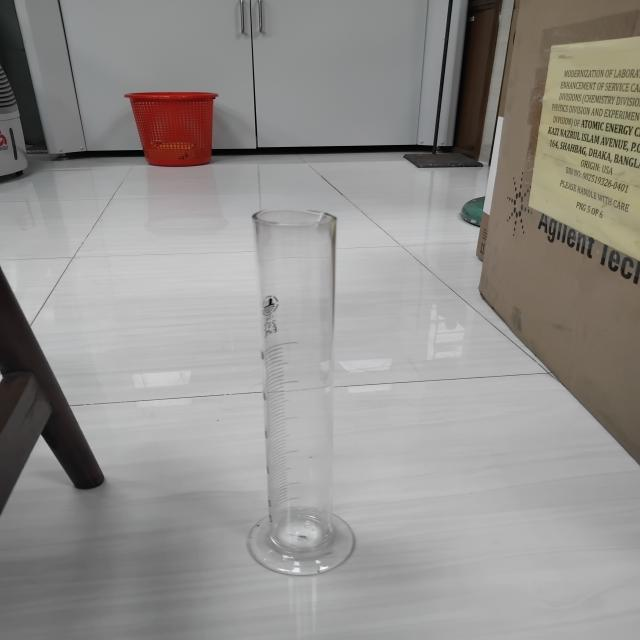Measuring_Cylinder: (134, 174, 448, 597)
